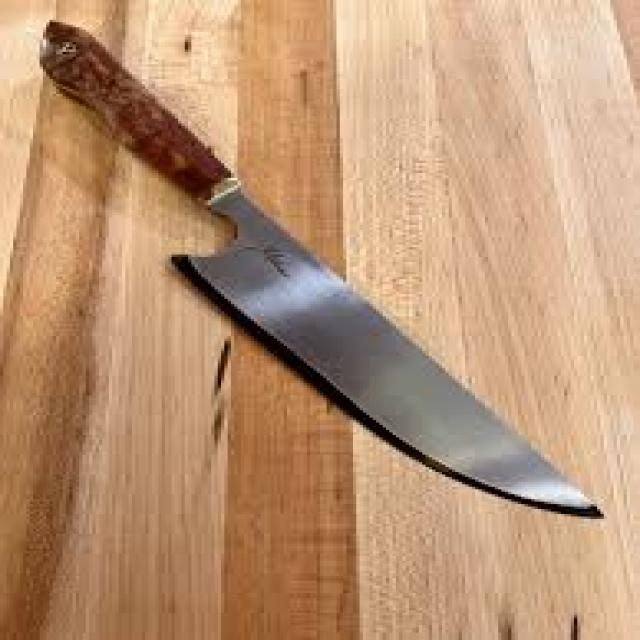knife: (39, 20, 595, 510)
